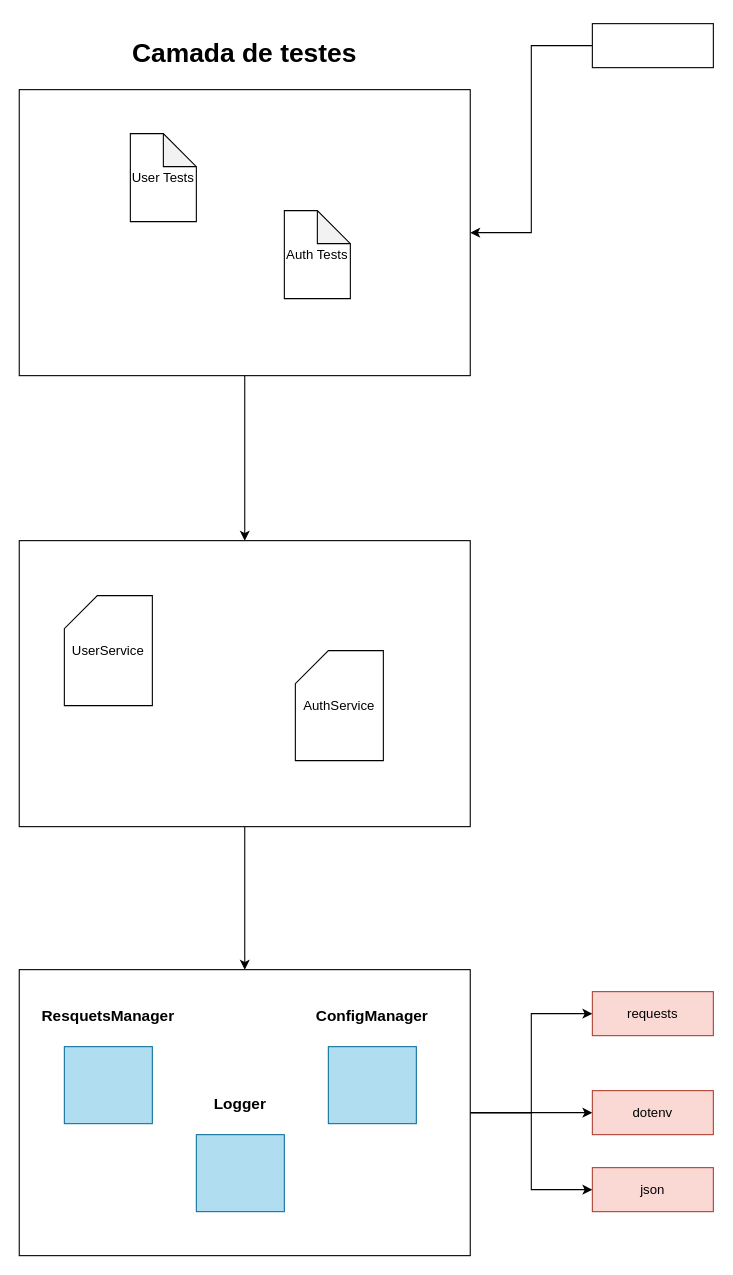
Some shapes in this 733 by 1275 pixel diagram are drawn without their labels. Each missing label, with the box of its shape:
Camada de serviços: (18, 540, 470, 827)
INFRAESTRUTURA: (18, 969, 470, 1256)
Pytest: (591, 23, 713, 68)
